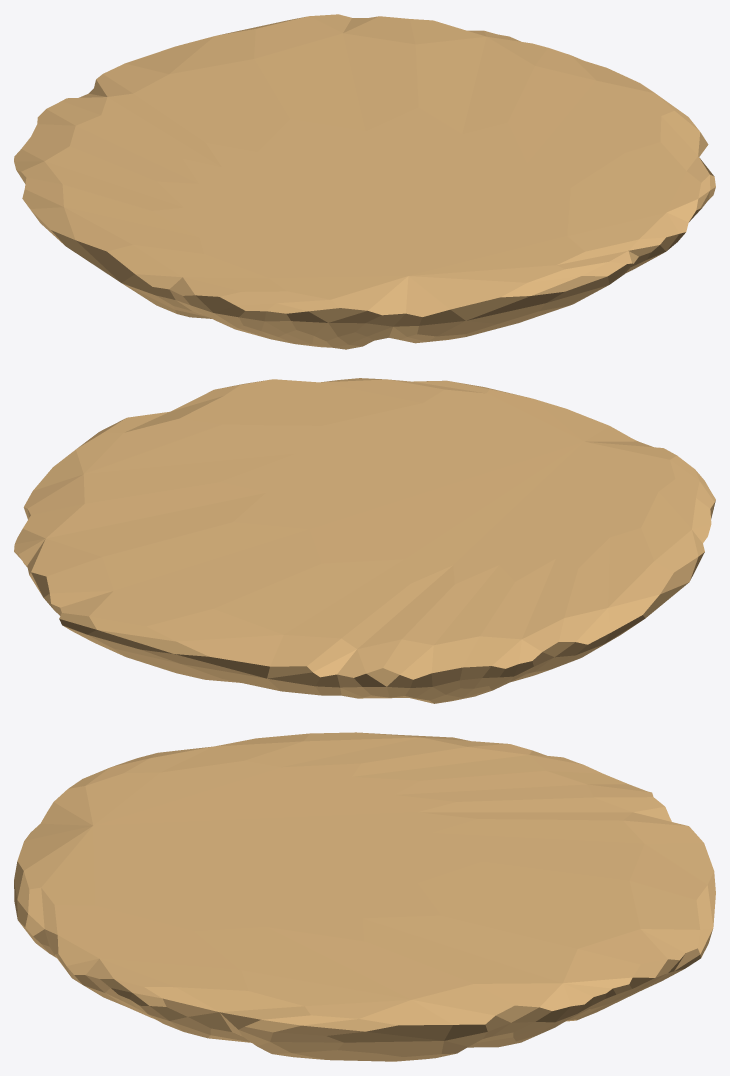
File: Underground.fbx
The picture shows the model from 3 angles, top to bottom: view 1: azimuth 30°, elevation 25°; view 2: azimuth 150°, elevation 25°; view 3: azimuth 270°, elevation 25°; orthographic projection. The views are drawn at different scales.
Visible parts, largest first — view 1: Plane; view 2: Plane; view 3: Plane.
Boxes of the visible parts, bbox=[...] form: Plane: bbox=[14, 14, 715, 349]; Plane: bbox=[14, 378, 715, 703]; Plane: bbox=[14, 732, 715, 1061].
Size of the model in its own units: 14383 by 2215 by 14459.
